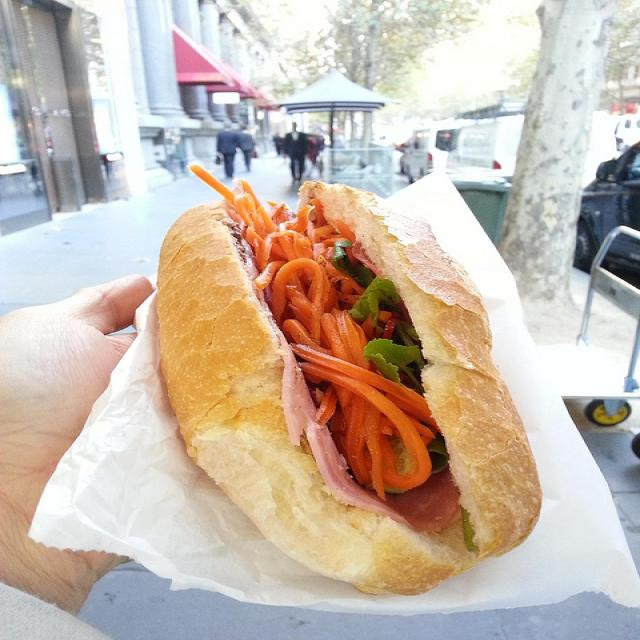Vehicle: (570, 141, 640, 287), (396, 129, 454, 186), (455, 130, 491, 168)
